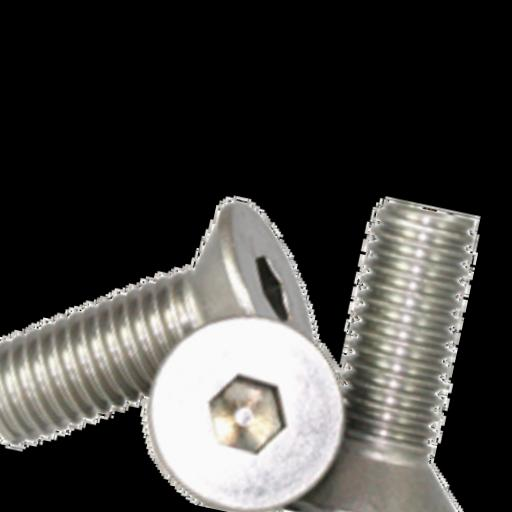Hex-Allen: (131, 298, 363, 512)
